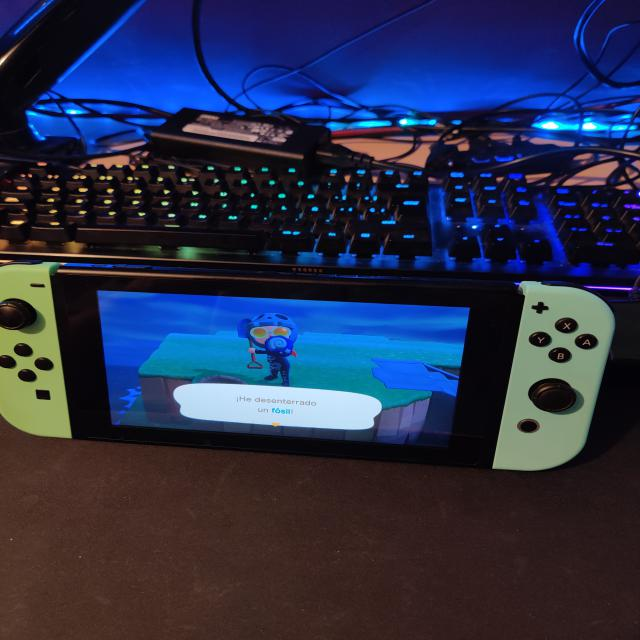text_bubble: (173, 383, 386, 434)
